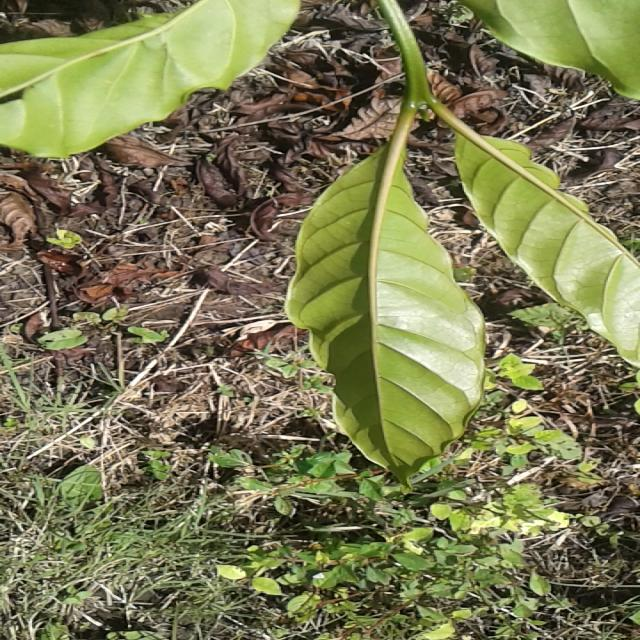Sanas: (284, 0, 489, 482)
